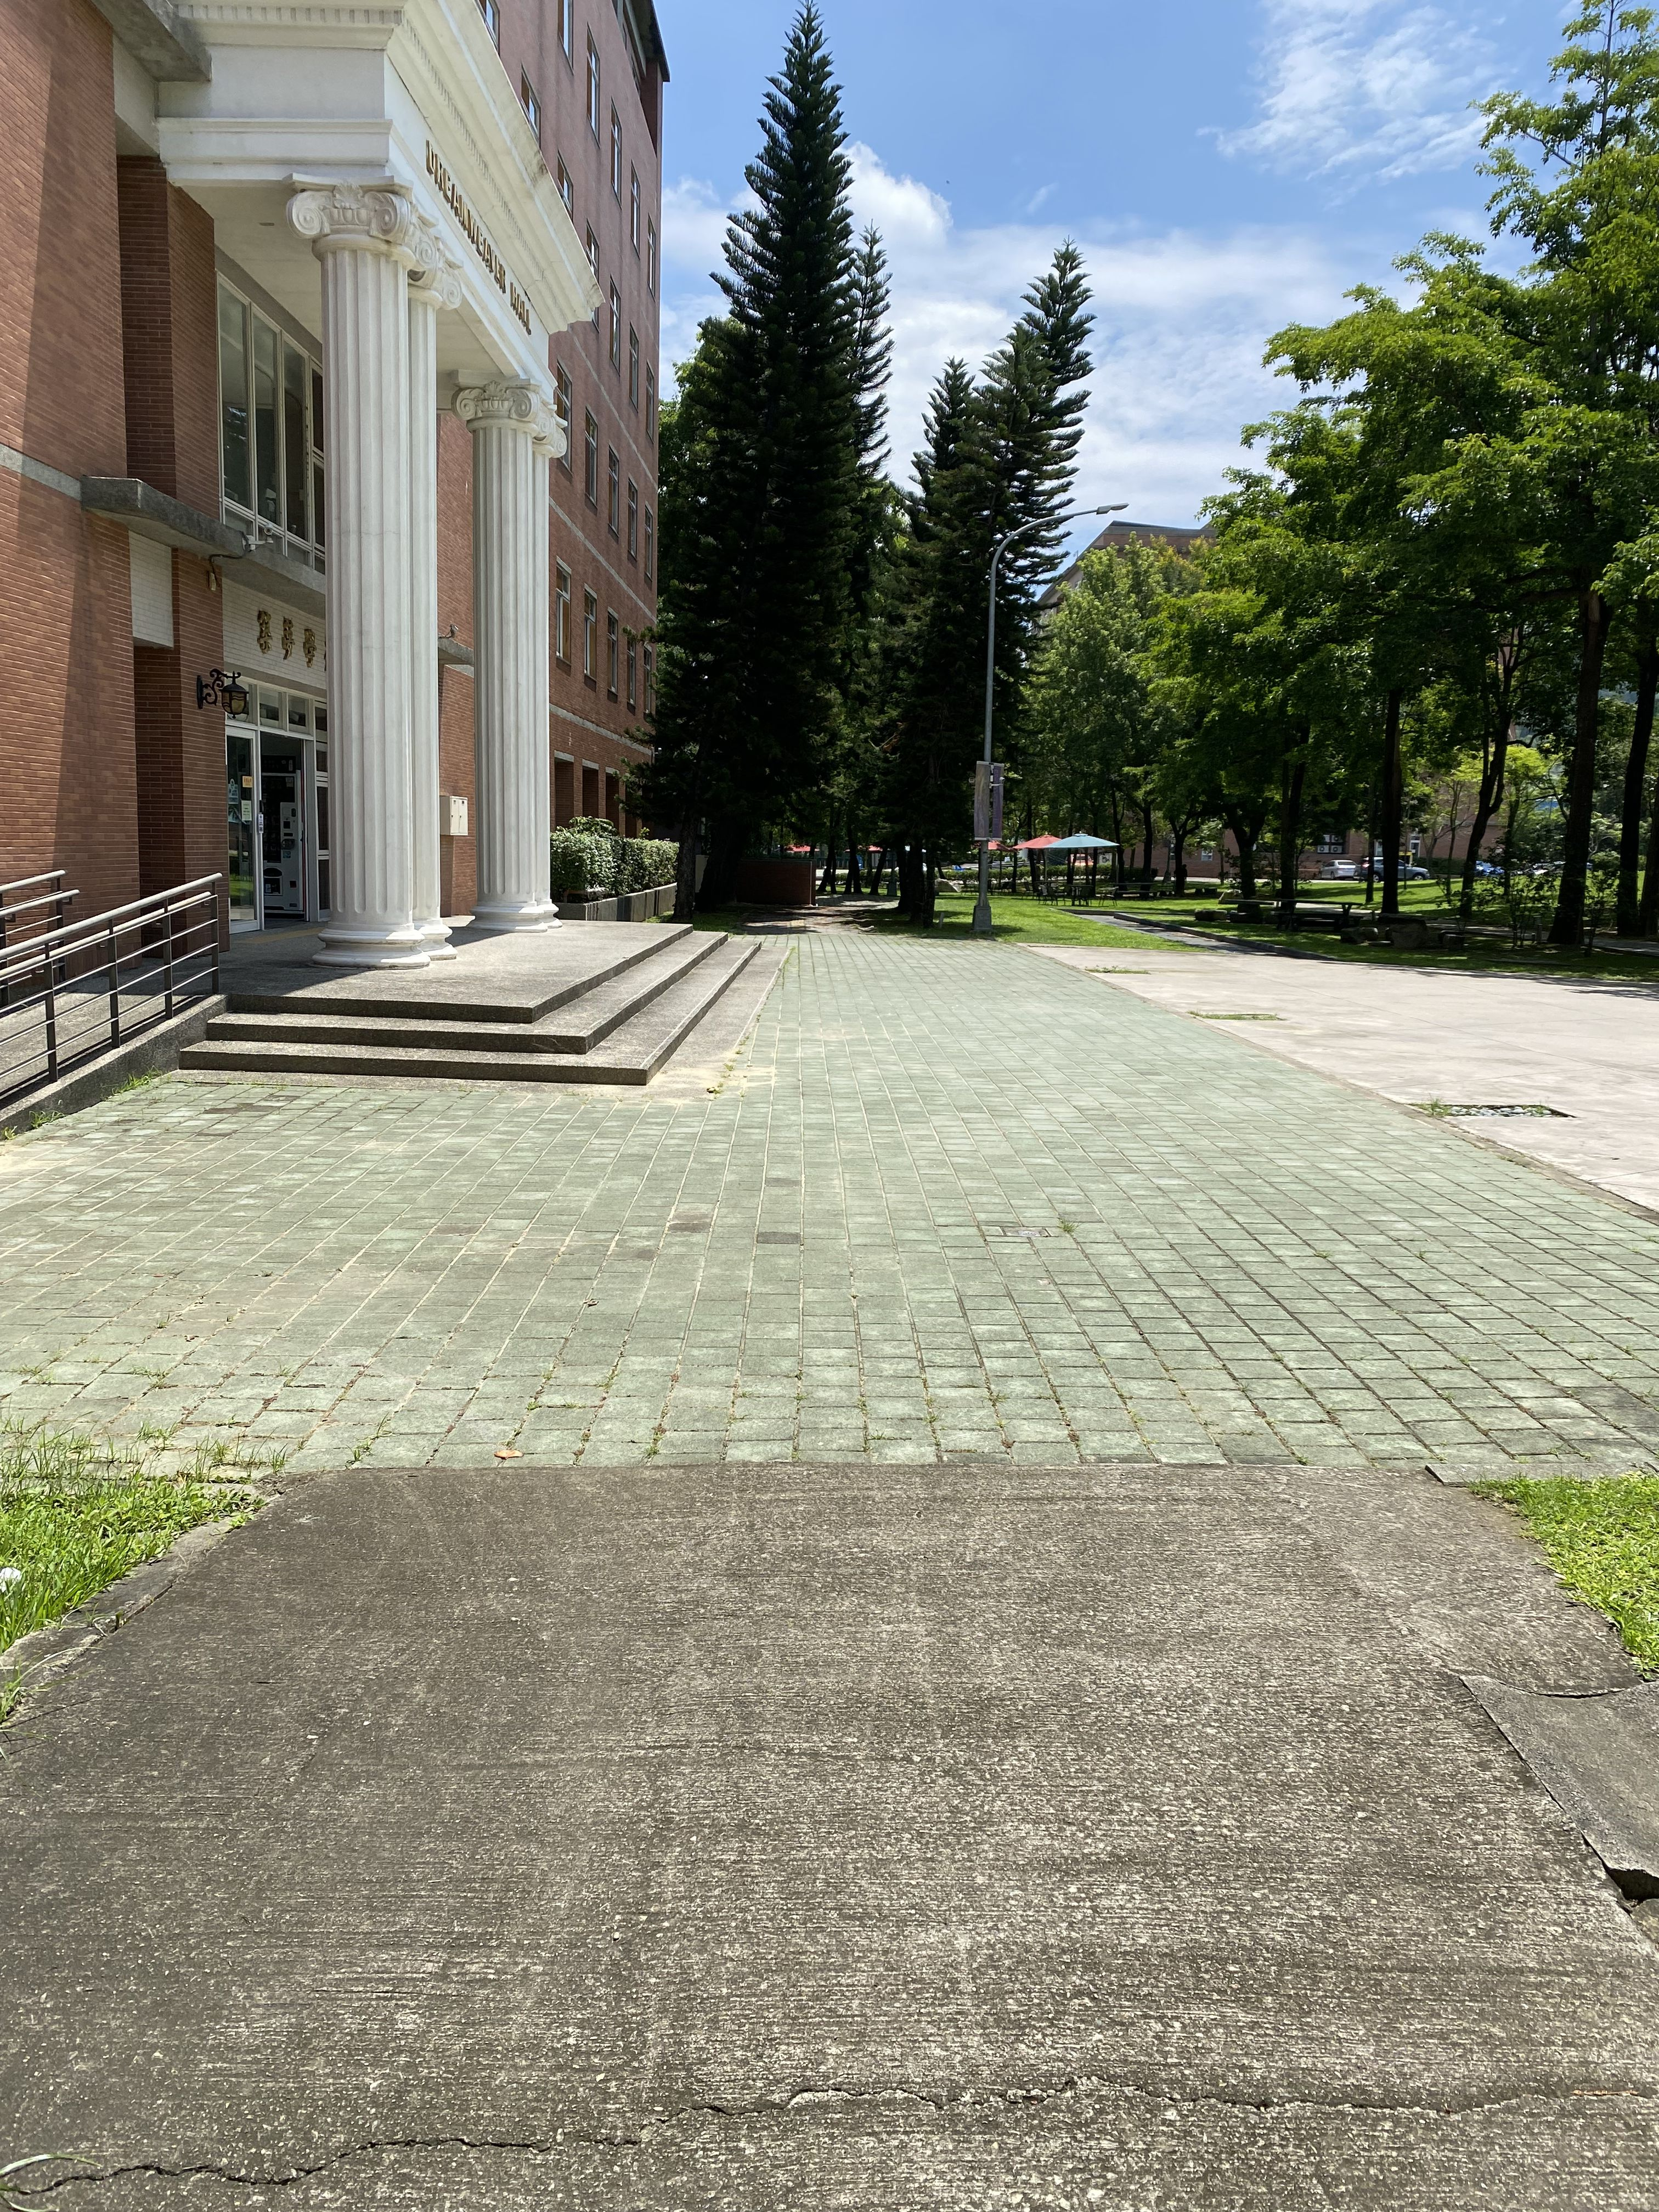sidewalk: (146, 782, 1659, 2207)
